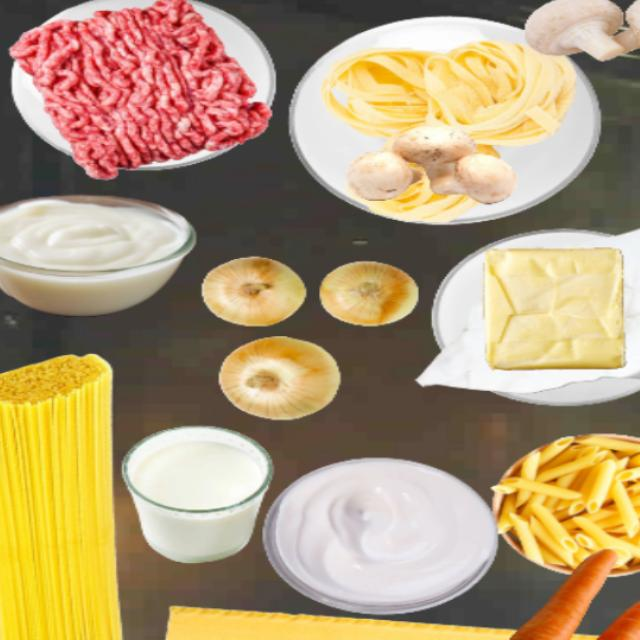Milk: (120, 422, 274, 565)
